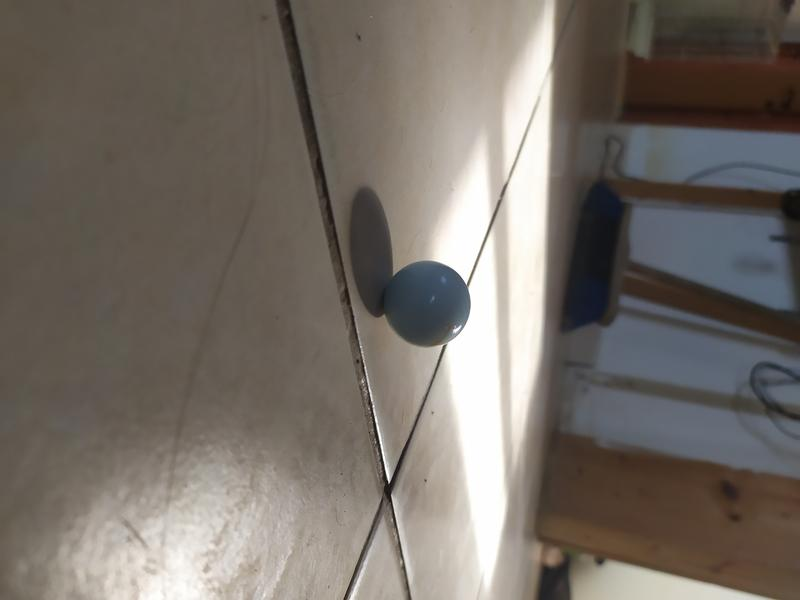Warning: (378, 257, 473, 350)
